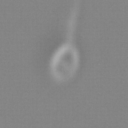normal: (57, 1, 87, 44)
